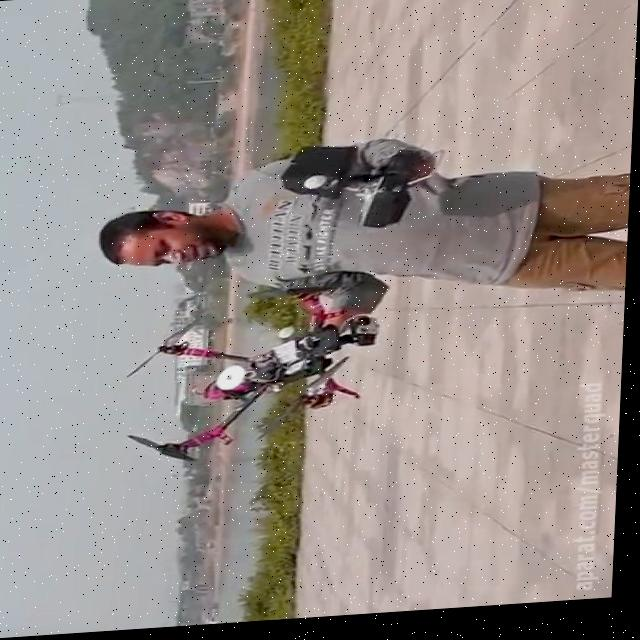drone: (121, 284, 388, 472)
